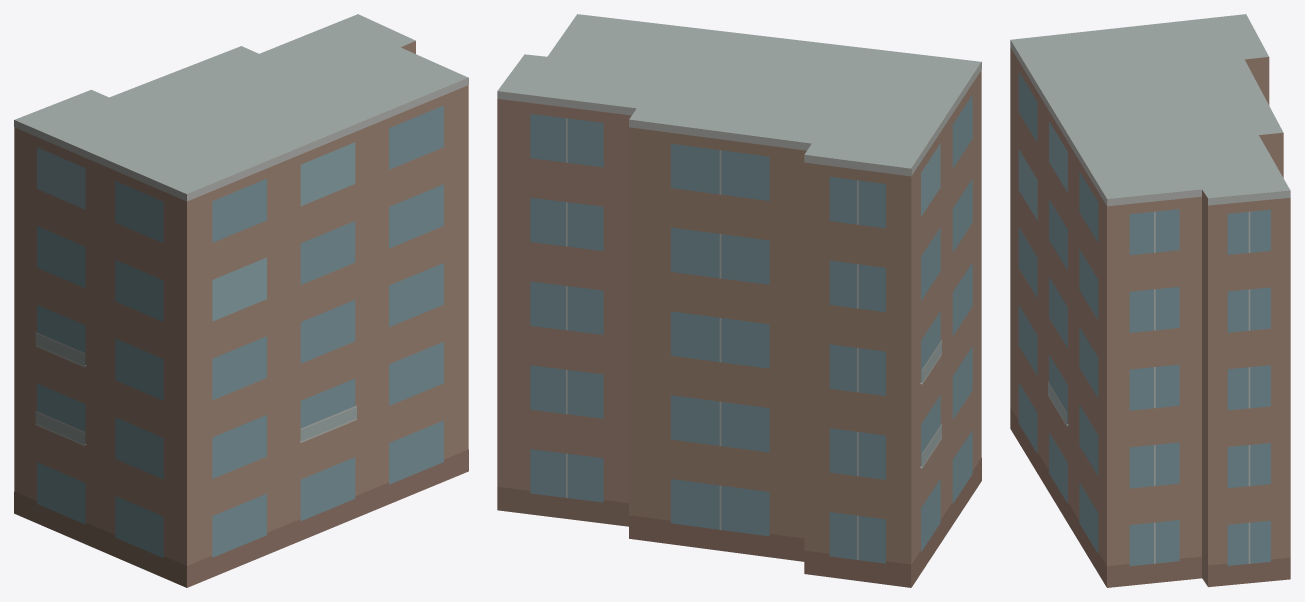
Rendered from survey-upis-32711251.glb.
The picture shows the model from 3 angles, left to right: view 1: azimuth 30°, elevation 25°; view 2: azimuth 150°, elevation 25°; view 3: azimuth 270°, elevation 25°; orthographic projection. The views are drawn at different scales.
Parts seen in each view (by area): view 1: survey-upis-32711251.tmp; view 2: survey-upis-32711251.tmp; view 3: survey-upis-32711251.tmp.
Part boxes in pixels (x1,y1,x2,y2): survey-upis-32711251.tmp: (14,14,468,587); survey-upis-32711251.tmp: (497,14,981,587); survey-upis-32711251.tmp: (1010,14,1290,587).
Bounding box in the file's own units: 13.49 × 13.2 × 8.64.
